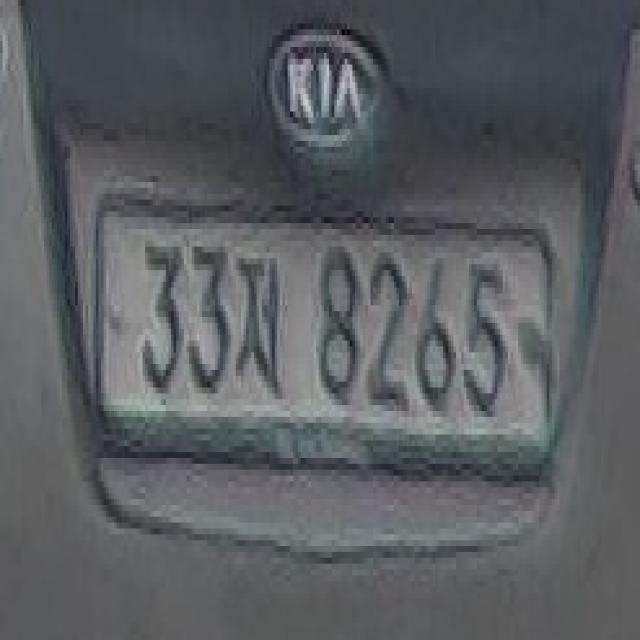2: (365, 252, 407, 417)
3: (137, 235, 184, 393), (187, 235, 230, 399)
5: (461, 258, 505, 417)
6: (412, 258, 453, 411)
8: (316, 241, 360, 411)
jeo: (236, 252, 280, 388)
license_plate: (86, 194, 554, 487)
